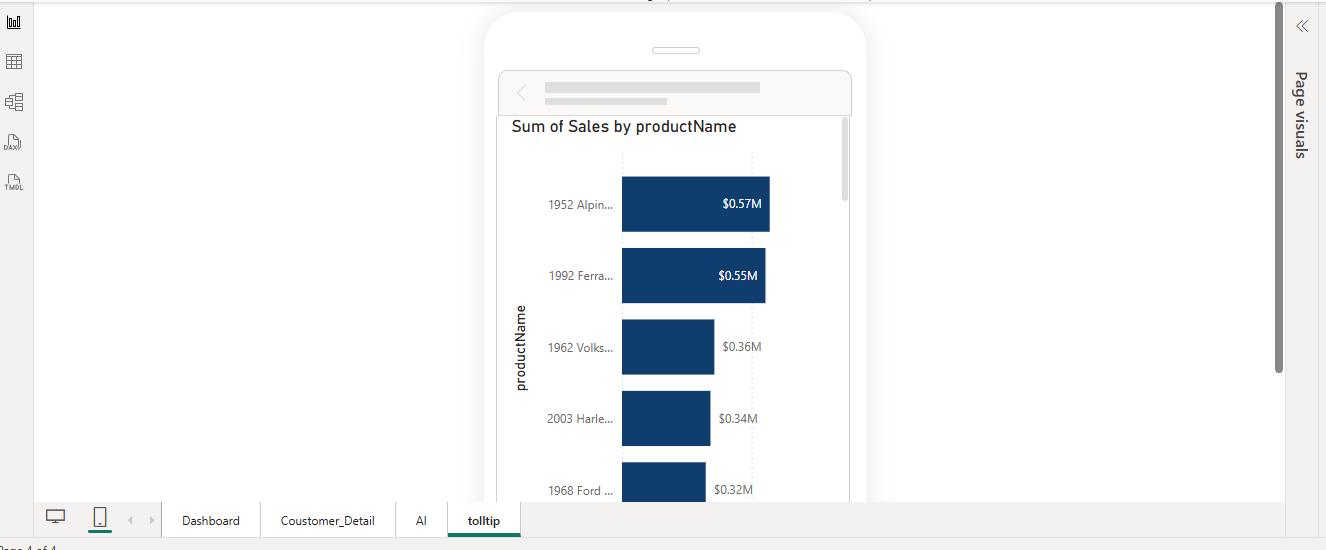

The dashboard page shown, as its layout file describes it:
{"tool":"powerbi","page":{"name":"tolltip","canvas":[320,240],"ordinal":3},"visuals":[{"type":"barChart","fields":{"Y":["Sum(order details.Sales)"],"Category":["productss.productName"]},"box":[0,0,320,240],"z":0}]}

Visuals, with their boxes on the page's 320x240 design canvas (x1, y1, x2, y2). These are canvas units, not pixel positions in the 1326x550 screenshot, which may show the page scaled, cropped or inside an application window:
barChart - Sum(order details.Sales) x productss.productName: select_region(0, 0, 320, 240)
